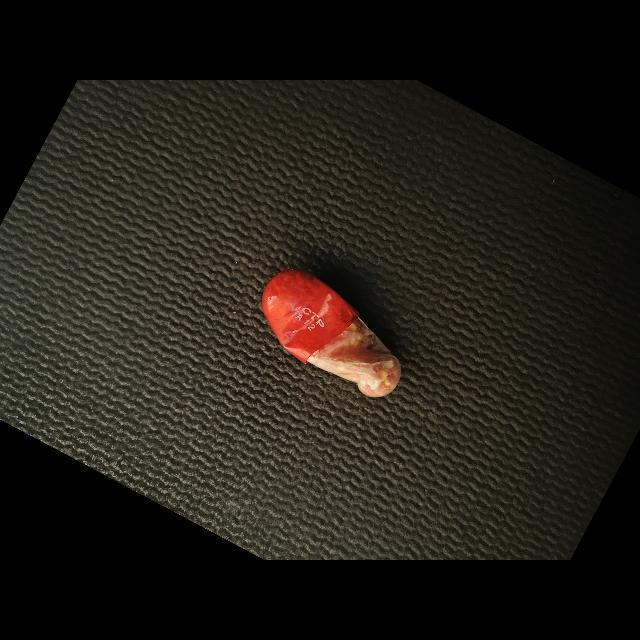Defective Capsule: (262, 270, 401, 397)
